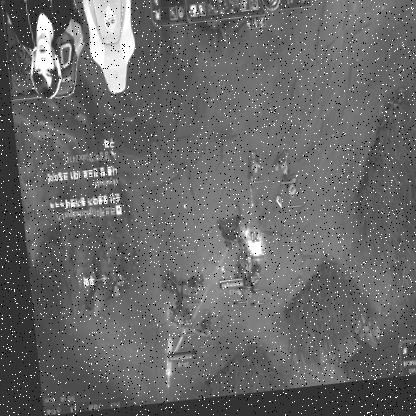streamer: (3, 0, 80, 103)
